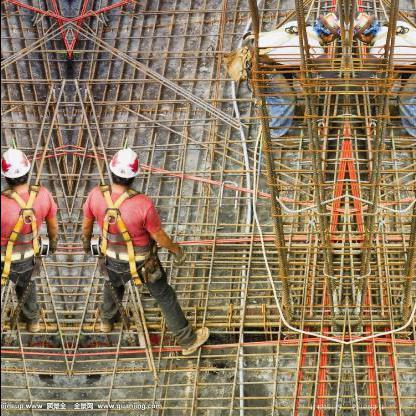Helmet: (105, 148, 141, 186), (312, 6, 344, 44), (0, 148, 32, 186), (346, 6, 378, 44)
